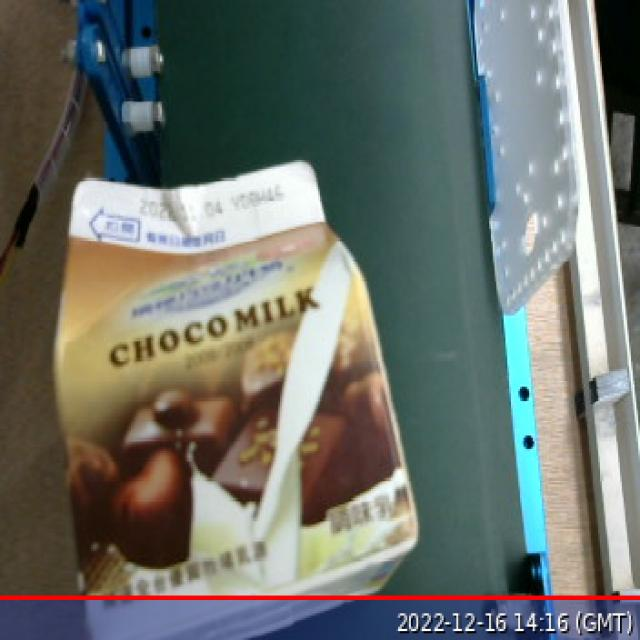non_white_jug: (40, 148, 436, 640)
